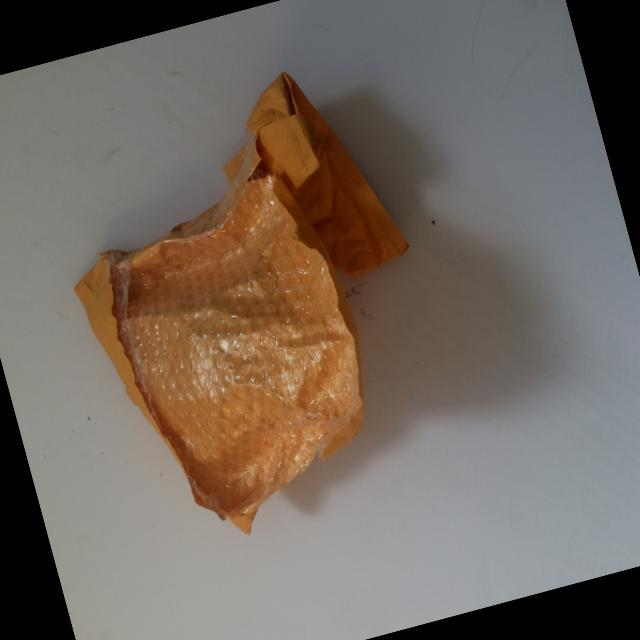Paper: (43, 61, 468, 562)
Plastic: (125, 220, 362, 460)
